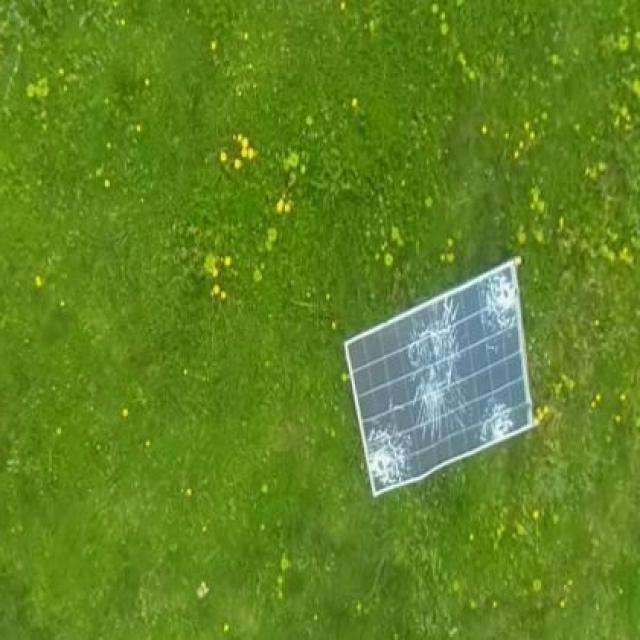cracked: (337, 256, 544, 501)
